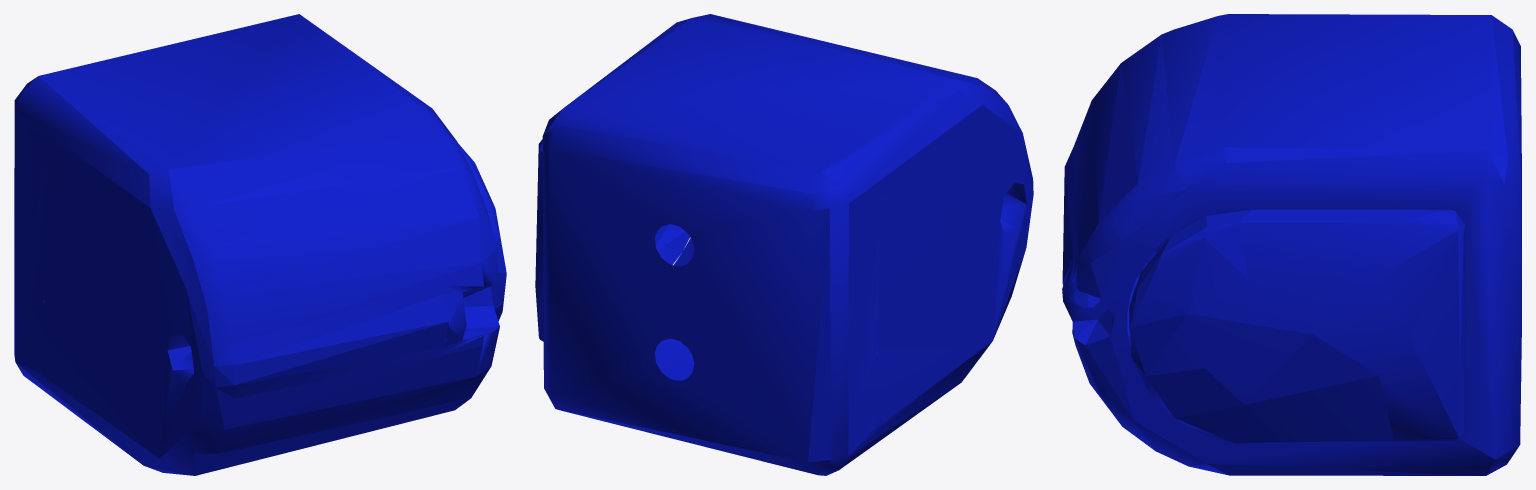
The model's file is 5_digit.obj.
3 views of the same model, side by side, from view 1: azimuth 30°, elevation 25°; view 2: azimuth 150°, elevation 25°; view 3: azimuth 270°, elevation 25° (orthographic). The views are drawn at different scales.
Visible parts, largest first — view 1: 5_digit.001; view 2: 5_digit.001; view 3: 5_digit.001.
Part boxes in pixels (x1,y1,x2,y2): 5_digit.001: (14, 14, 506, 475); 5_digit.001: (535, 14, 1033, 475); 5_digit.001: (1062, 14, 1521, 475).
Bounding box in the file's own units: 0.0318 × 0.0268 × 0.0341.
